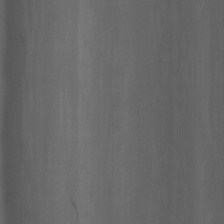water_spot: (68, 181, 85, 224)
